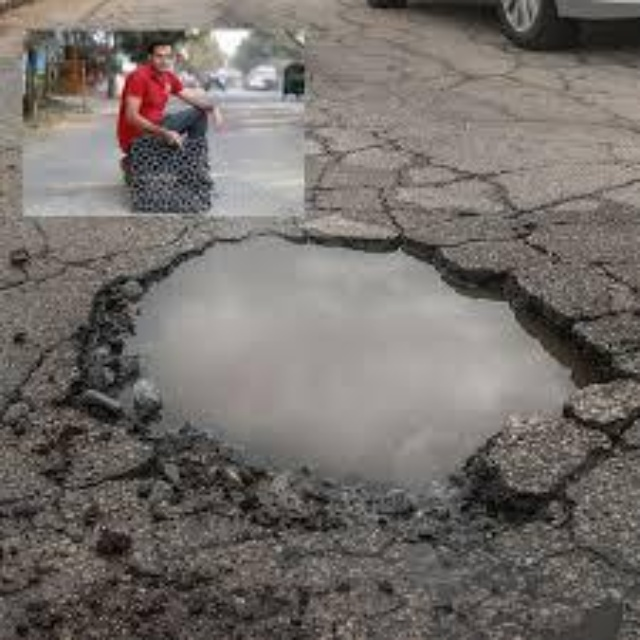pothole: (100, 236, 569, 489)
